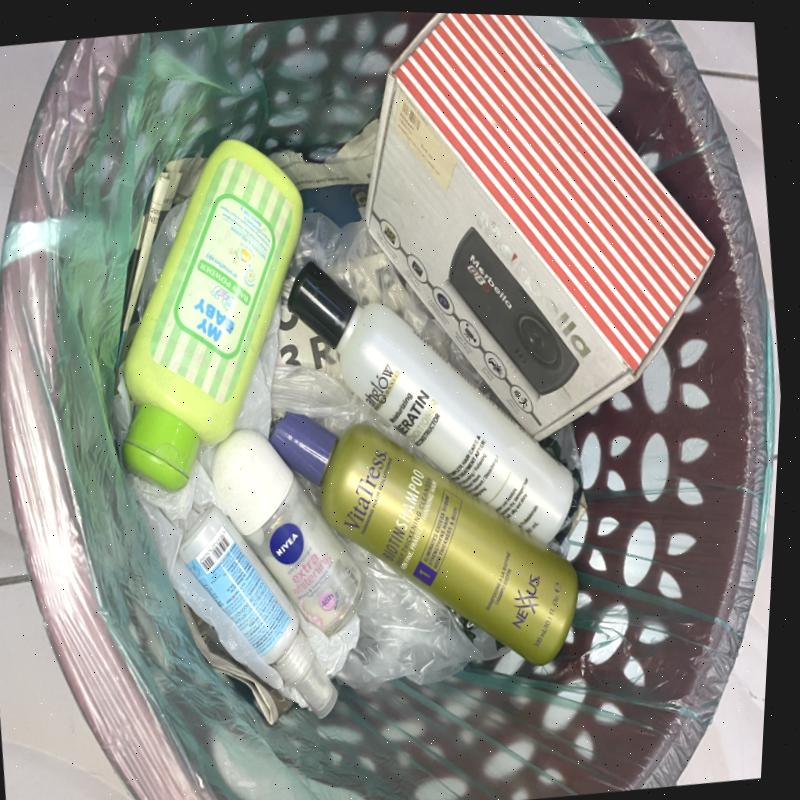cardboard: (363, 13, 712, 442)
glass bottle: (210, 429, 364, 639)
plastic bag: (333, 539, 508, 691)
plastic container: (284, 261, 573, 548), (266, 412, 577, 666), (119, 137, 301, 492), (177, 503, 336, 719)
